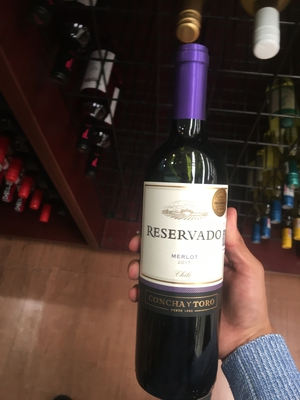reservado merlot: (126, 38, 240, 387)
